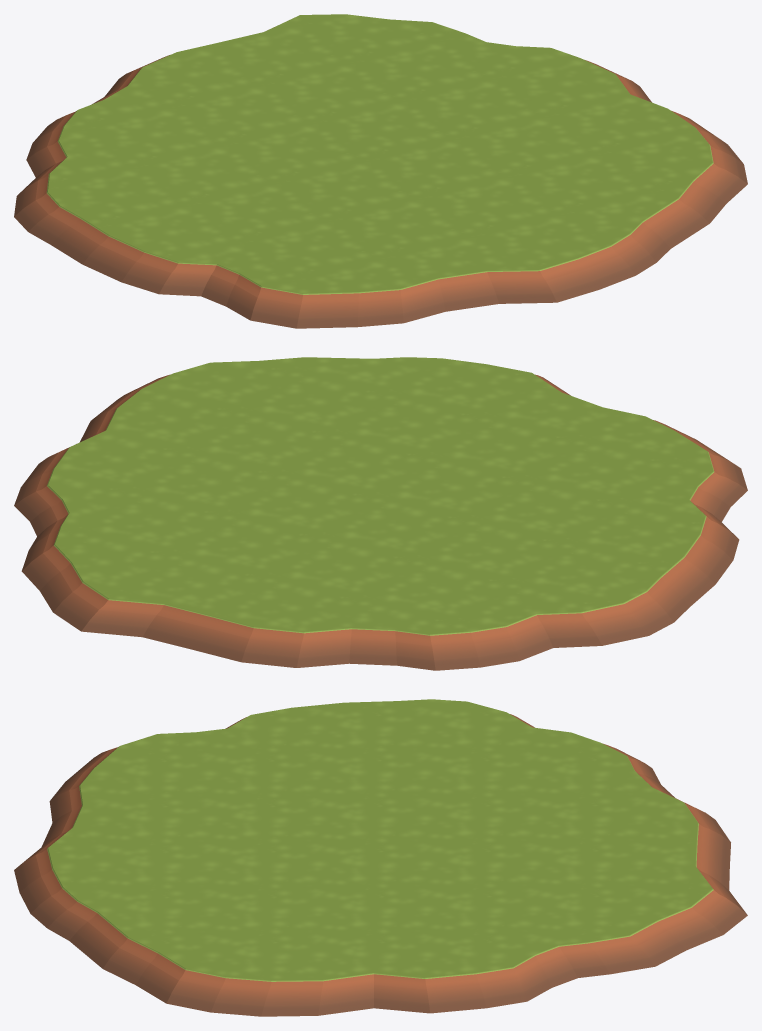
File: island_pravki.fbx
3 views of the same model, one above another, from view 1: azimuth 30°, elevation 25°; view 2: azimuth 150°, elevation 25°; view 3: azimuth 270°, elevation 25° (orthographic). The views are drawn at different scales.
Visible parts, largest first — view 1: island.001; view 2: island.001; view 3: island.001.
Boxes of the visible parts, <box> form: island.001: <box>14,14,747,328</box>; island.001: <box>14,357,747,670</box>; island.001: <box>14,699,747,1016</box>.
Size of the model in its own units: 29117 by 955 by 29086.
